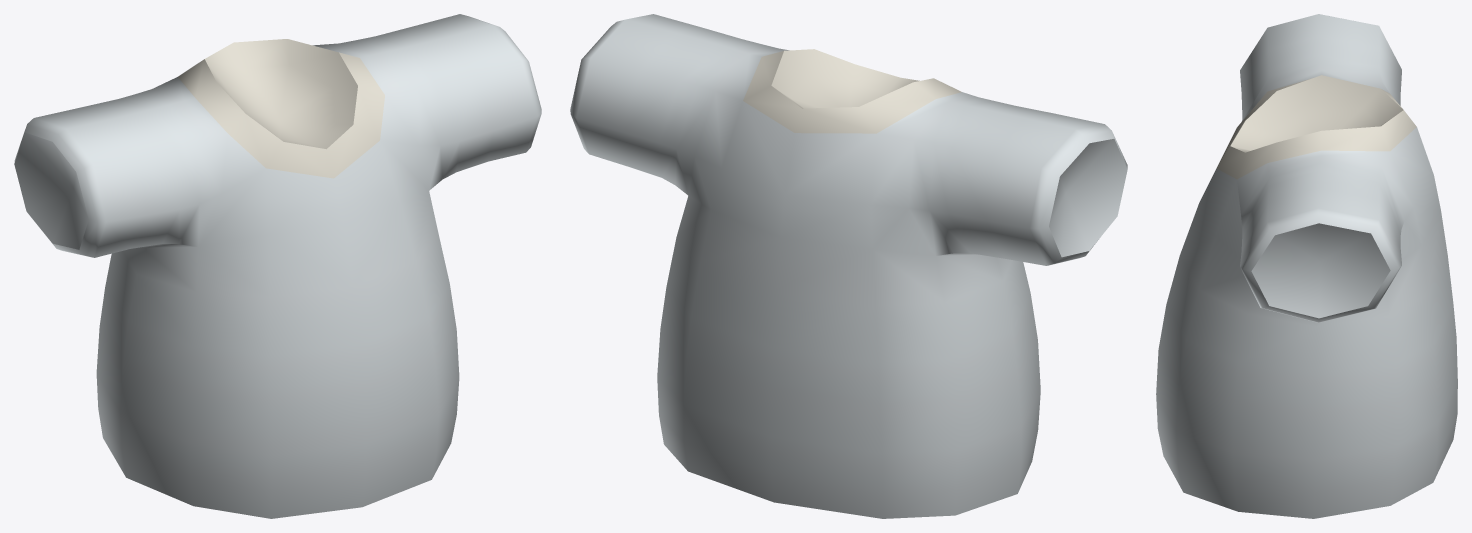
The model's file is Top_03.fbx.
3 renders of one model, left to right at view 1: azimuth 30°, elevation 25°; view 2: azimuth 150°, elevation 25°; view 3: azimuth 270°, elevation 25°, orthographic. The views are drawn at different scales.
Visible parts, largest first — view 1: Top_03; view 2: Top_03; view 3: Top_03.
Part boxes in pixels (box(x1,y1,x2,y2)): Top_03: box(14, 14, 541, 518); Top_03: box(570, 14, 1127, 518); Top_03: box(1156, 14, 1457, 518).
Size of the model in its own units: 57.92 by 46.22 by 35.79.
